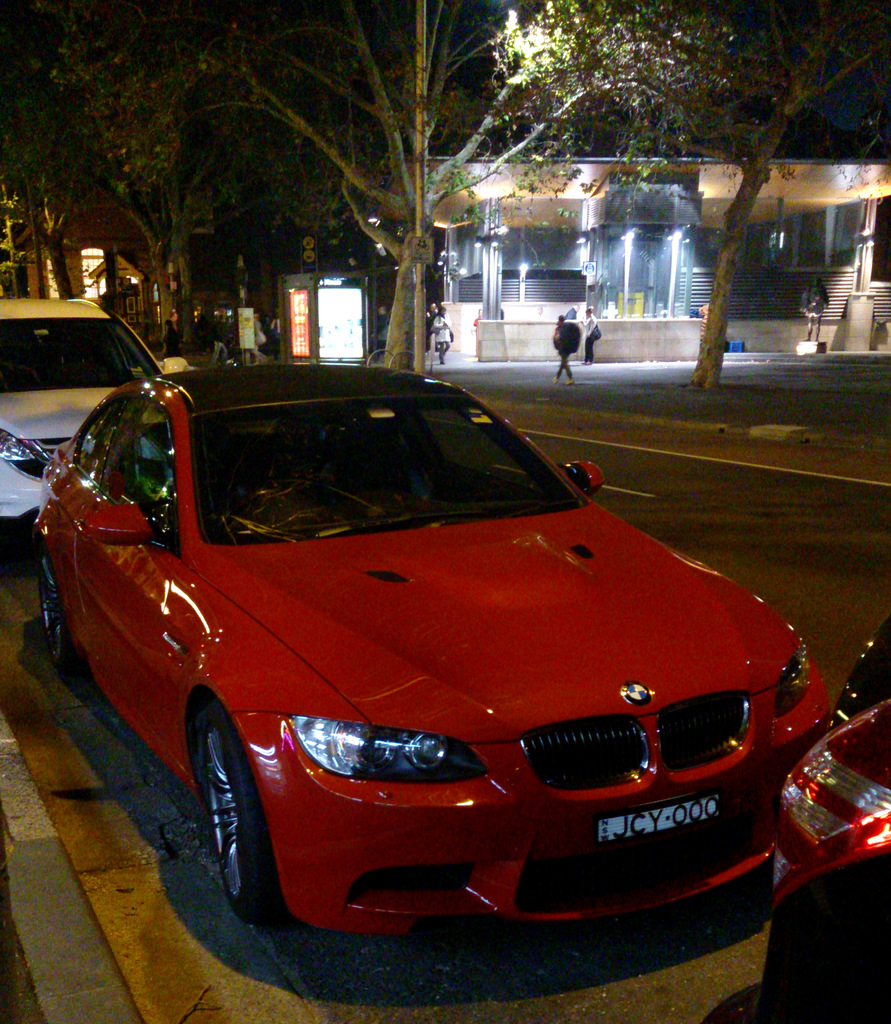Car: (28, 362, 834, 938), (754, 615, 890, 1023), (0, 296, 196, 561)
